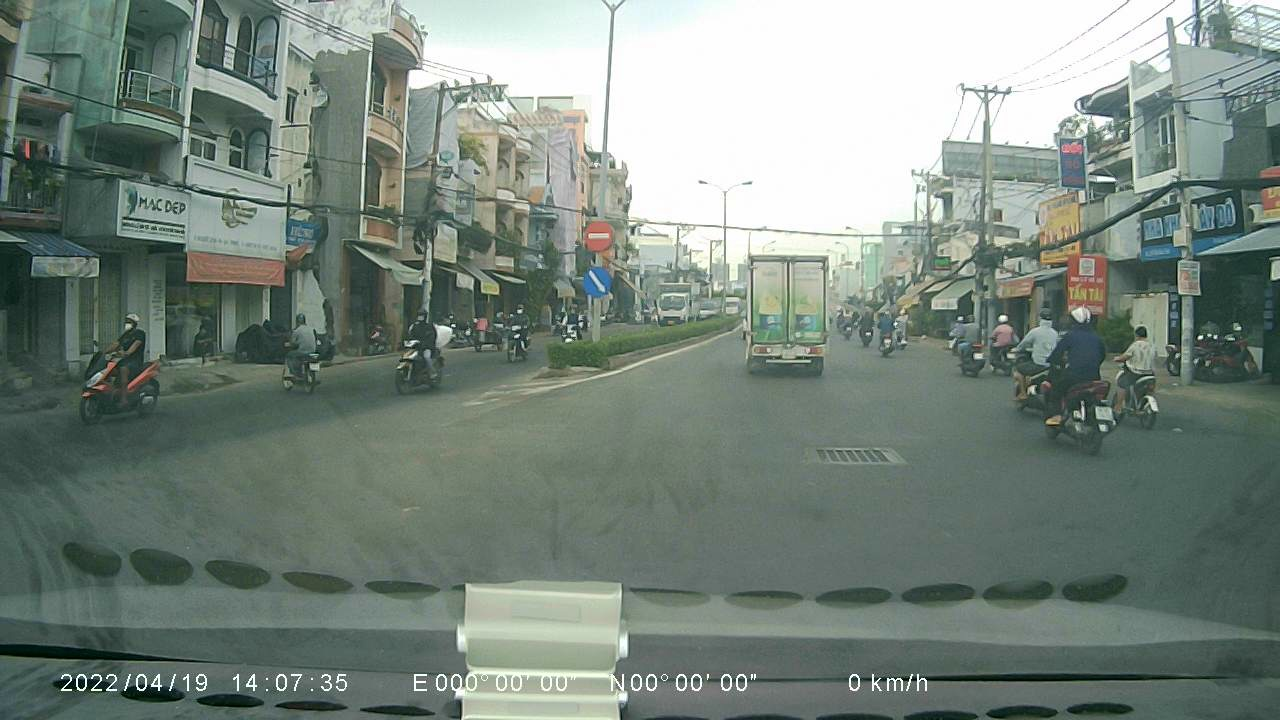Cam di nguoc chieu: (581, 218, 617, 249)
Huong di phai re phai: (580, 264, 609, 299)
